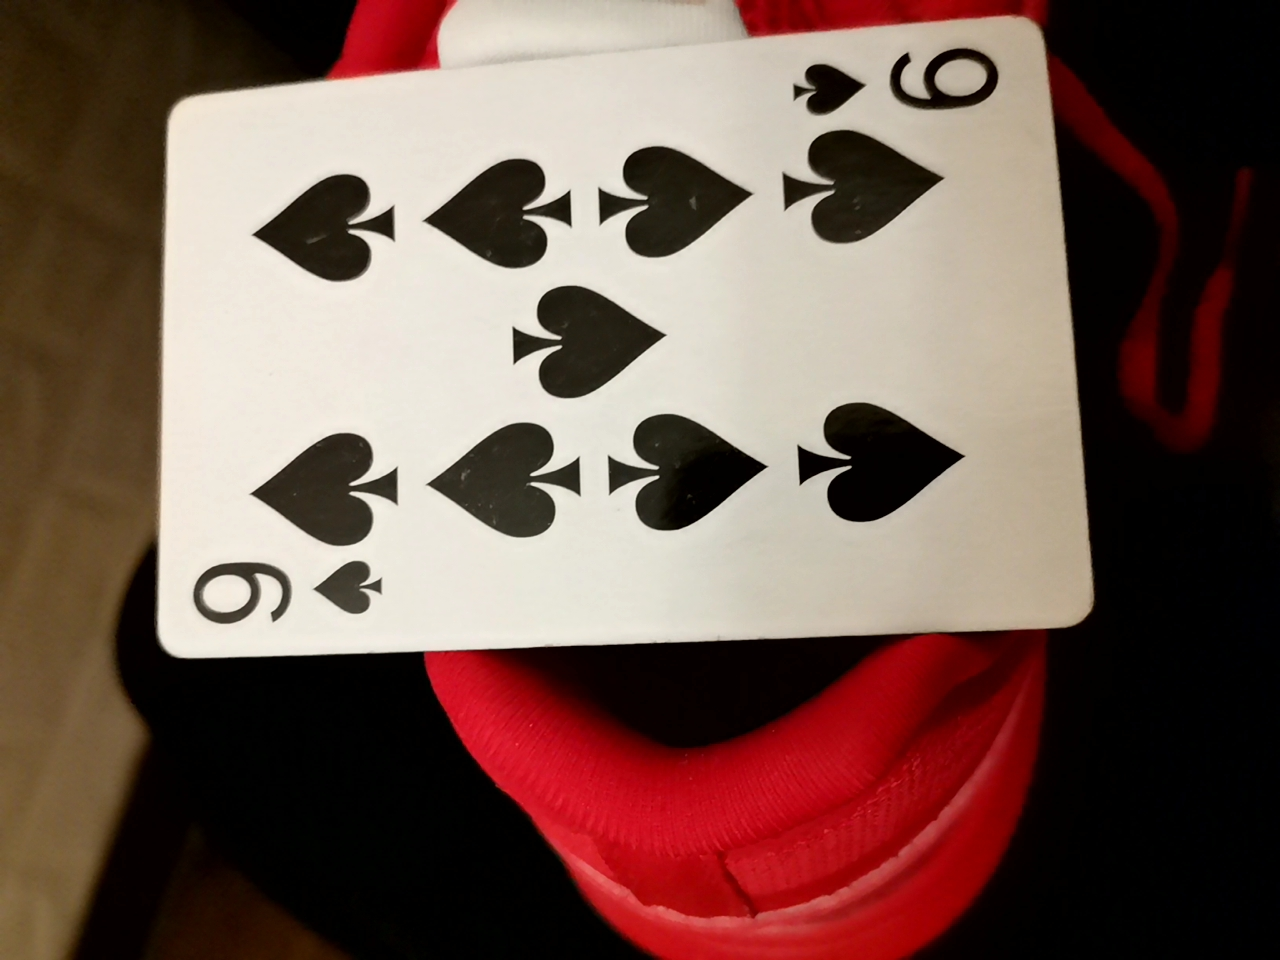ht 9: (147, 35, 1103, 650)
